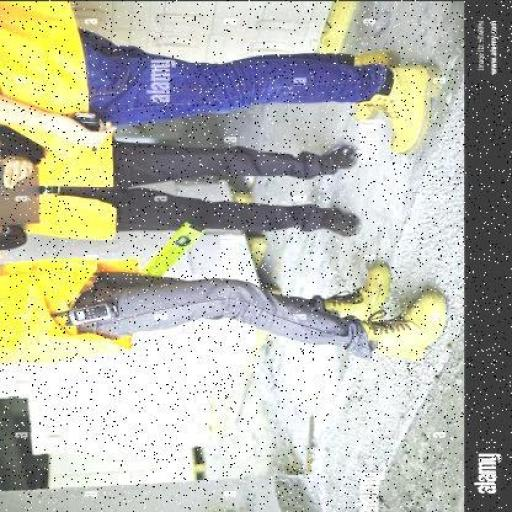safety_shoe: (360, 287, 449, 359), (381, 63, 441, 150), (319, 258, 392, 320), (343, 46, 400, 118)
